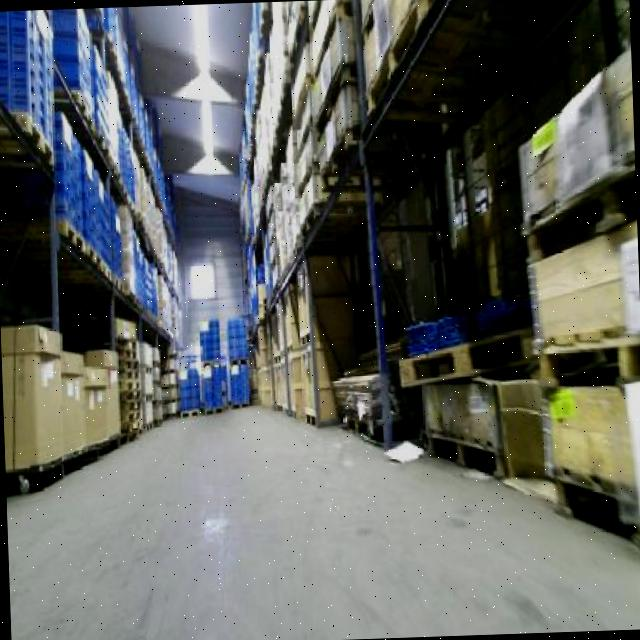pallet: (419, 430, 507, 485), (13, 105, 61, 177), (54, 218, 90, 257), (227, 400, 253, 415), (178, 407, 202, 423), (201, 405, 225, 419)
